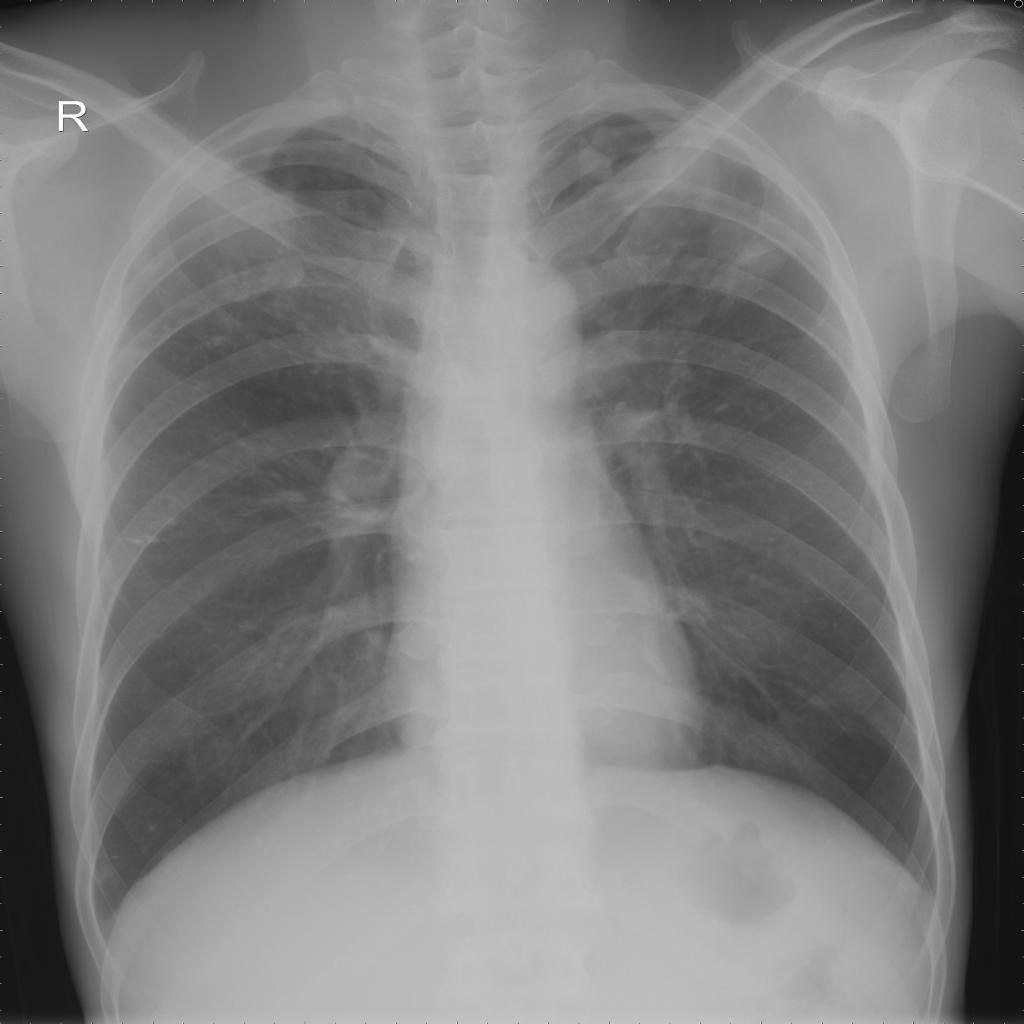Nodule: (264, 258, 308, 289), (127, 534, 159, 549), (150, 823, 159, 831), (111, 853, 119, 860)
